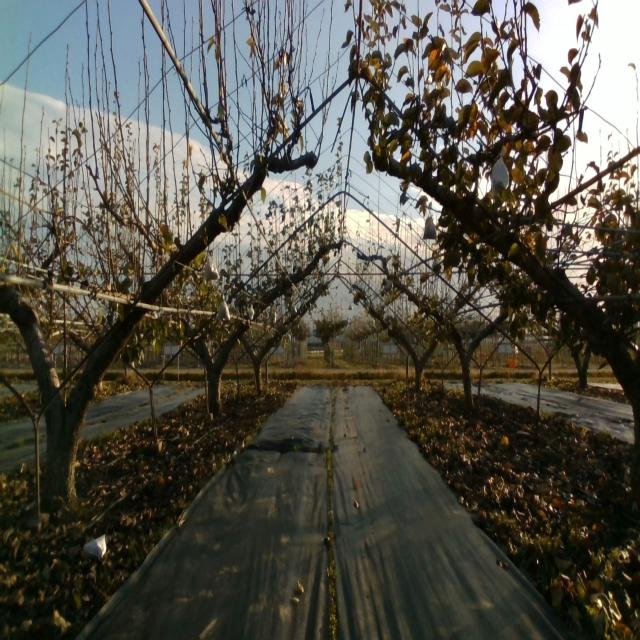pearbags: (490, 156, 510, 196), (422, 217, 438, 240), (205, 255, 219, 280), (218, 294, 230, 319)
